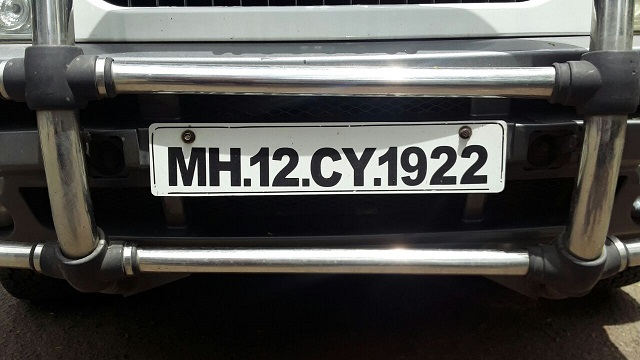licenseplate: (145, 116, 512, 204)
